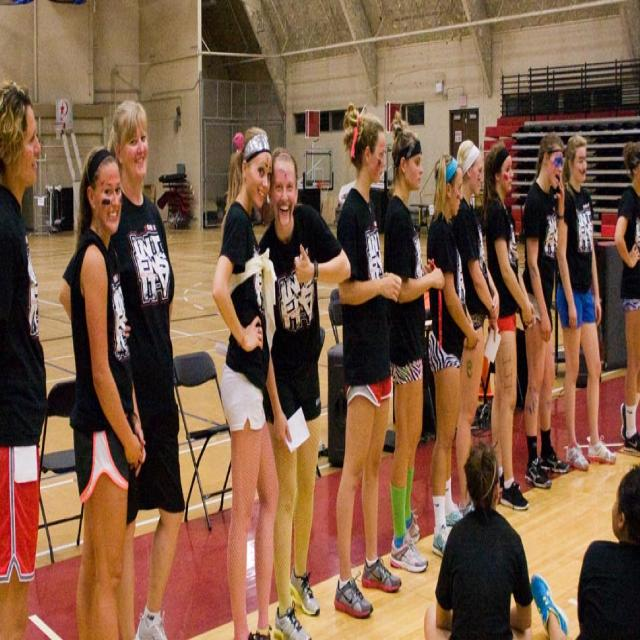body: (56, 92, 188, 638), (257, 144, 354, 638), (210, 123, 288, 640), (68, 138, 148, 639), (331, 99, 404, 624), (380, 110, 448, 578), (0, 83, 49, 640), (420, 428, 537, 638), (554, 127, 618, 476), (427, 151, 481, 561), (482, 135, 536, 520), (518, 126, 571, 493), (455, 138, 500, 519), (570, 462, 640, 640), (611, 138, 639, 458)
